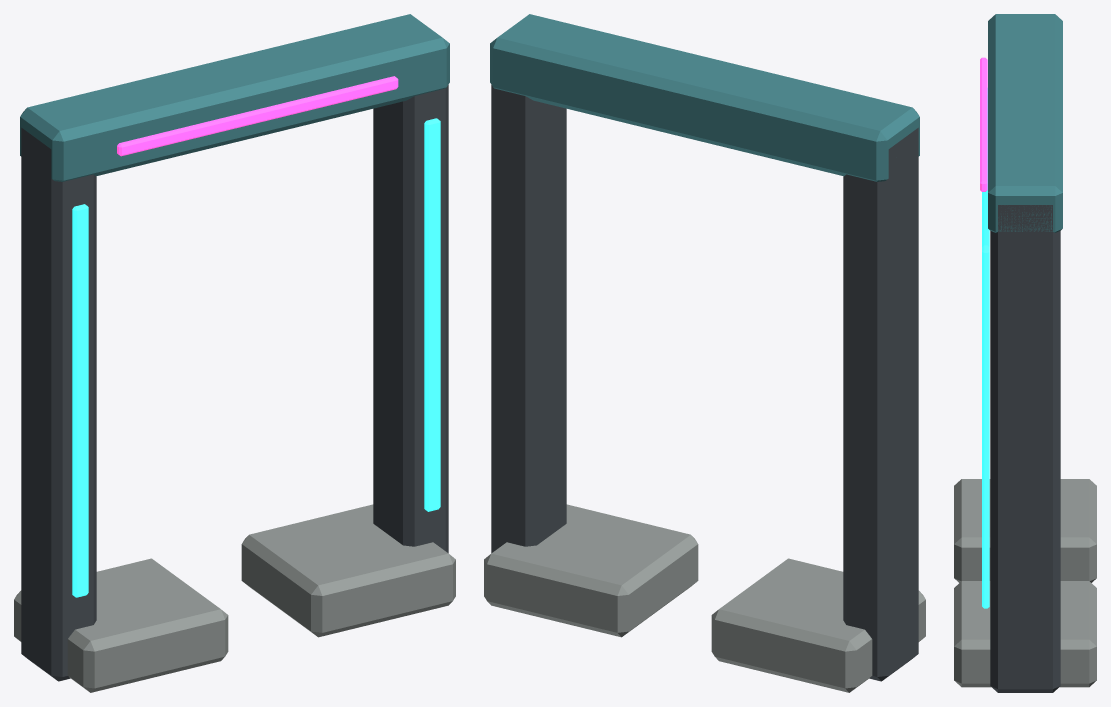
Rendered from dj_portal_relay_frame.glb.
3 views of the same model, side by side, from view 1: azimuth 30°, elevation 25°; view 2: azimuth 150°, elevation 25°; view 3: azimuth 270°, elevation 25° (orthographic). The views are drawn at different scales.
Visible parts, largest first — view 1: Frame_Pillar, Frame_Header, Frame_Pillar.001, Base_Right, Base_Left, Pillar_Inlay.001, Pillar_Inlay, Header_Light; view 2: Frame_Pillar, Frame_Header, Frame_Pillar.001, Base_Right, Base_Left; view 3: Frame_Pillar.001, Frame_Header, Base_Right, Base_Left, Pillar_Inlay.001, Header_Light, Pillar_Inlay.
Boxes of the visible parts, box(x1,y1,x2,y2) form: Frame_Pillar: box(21, 127, 96, 681); Frame_Header: box(20, 14, 449, 181); Frame_Pillar.001: box(373, 85, 448, 553); Base_Right: box(241, 504, 455, 637); Base_Left: box(14, 558, 228, 692); Pillar_Inlay.001: box(424, 118, 440, 511); Pillar_Inlay: box(72, 204, 88, 597); Header_Light: box(117, 76, 398, 156); Frame_Pillar: box(843, 127, 918, 681); Frame_Header: box(490, 14, 919, 181); Frame_Pillar.001: box(491, 85, 566, 553); Base_Right: box(484, 504, 698, 637); Base_Left: box(711, 558, 925, 692); Frame_Pillar.001: box(990, 205, 1060, 692); Frame_Header: box(988, 14, 1062, 232); Base_Right: box(954, 581, 1096, 687); Base_Left: box(954, 479, 1096, 582); Pillar_Inlay.001: box(982, 245, 989, 608); Header_Light: box(980, 57, 987, 191); Pillar_Inlay: box(982, 88, 989, 246).
Bounding box in the file's own units: 1.92 × 2.55 × 0.65.
